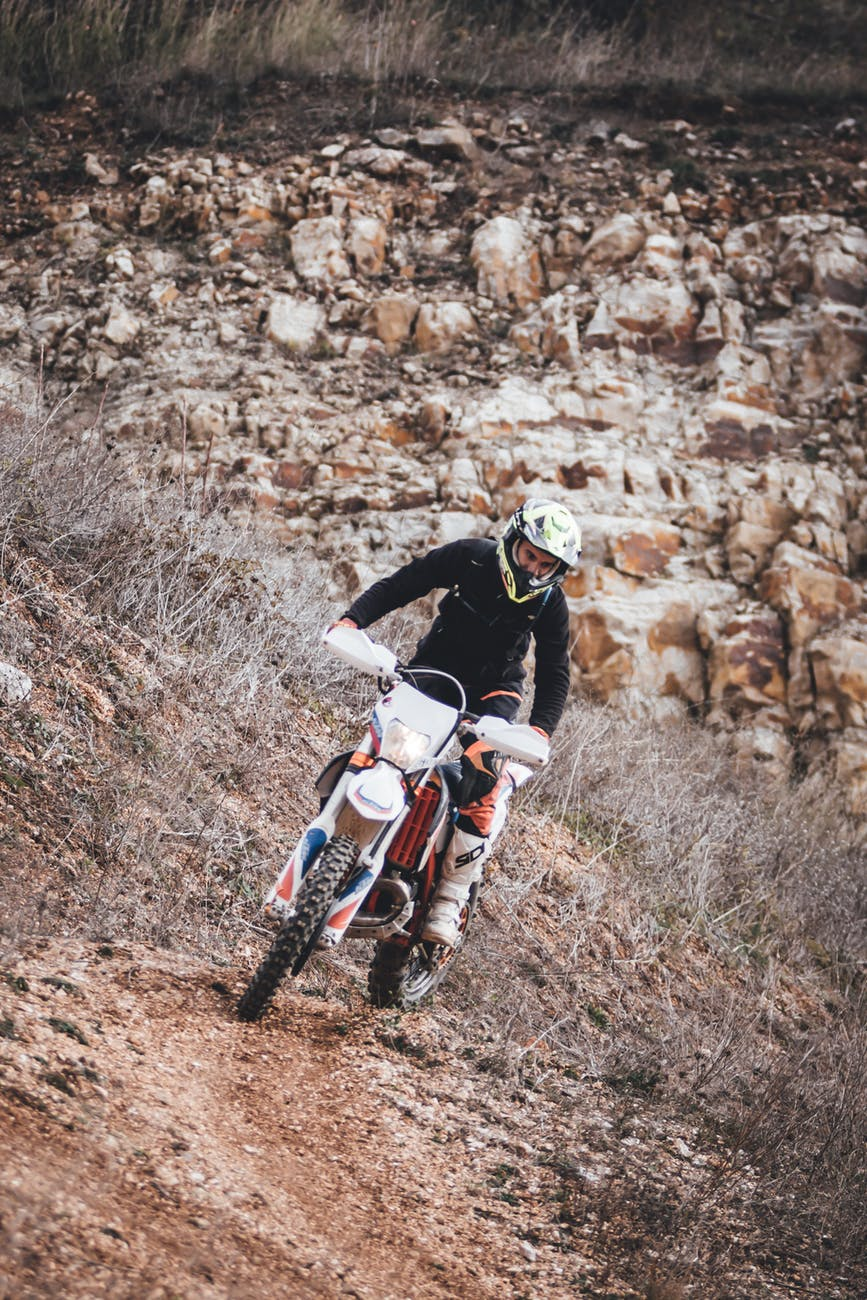helmet: (500, 497, 574, 621)
